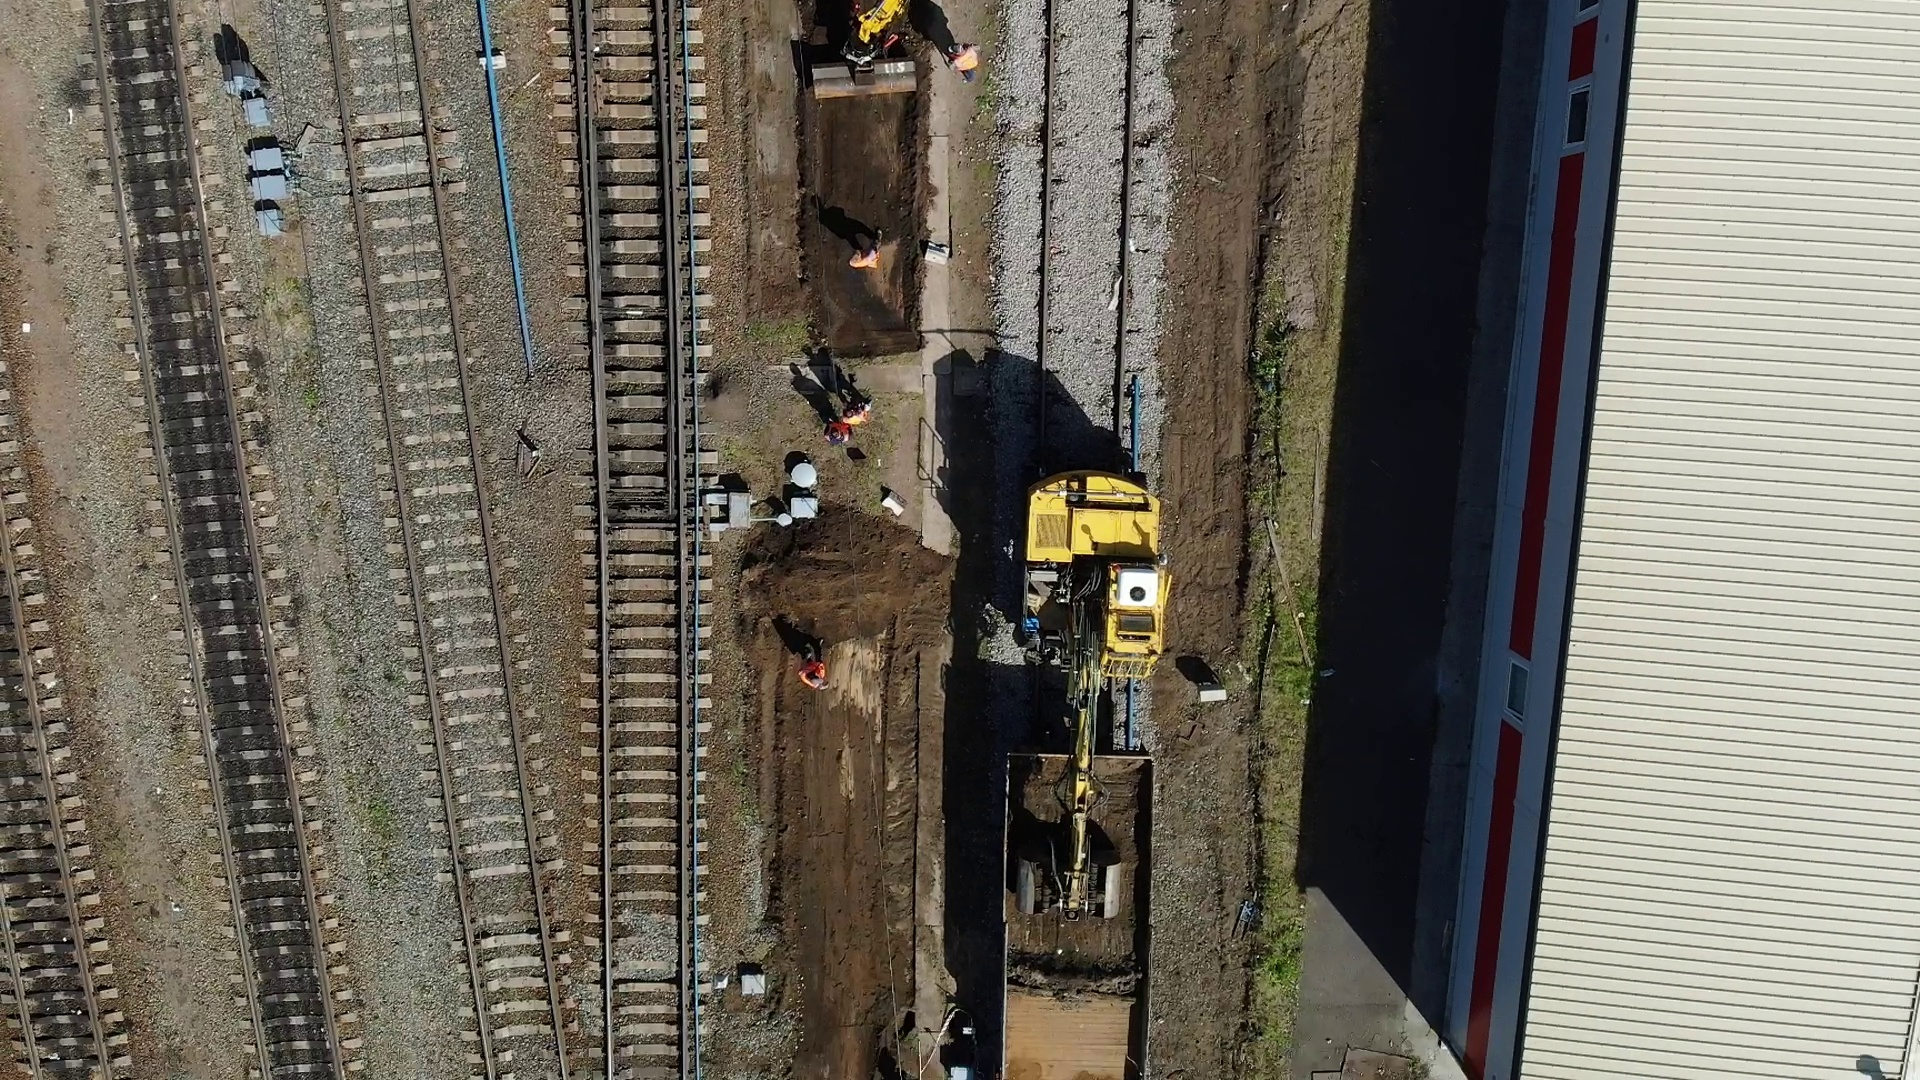kjtv: (1022, 468, 1176, 705)
